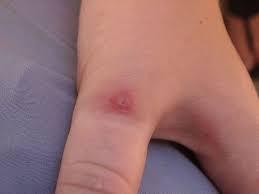Spider: (103, 89, 134, 114)
